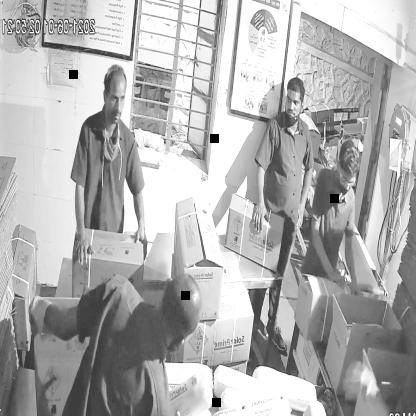goggles: (337, 166, 358, 192)
no_goggles: (280, 90, 308, 115), (101, 89, 130, 112)
